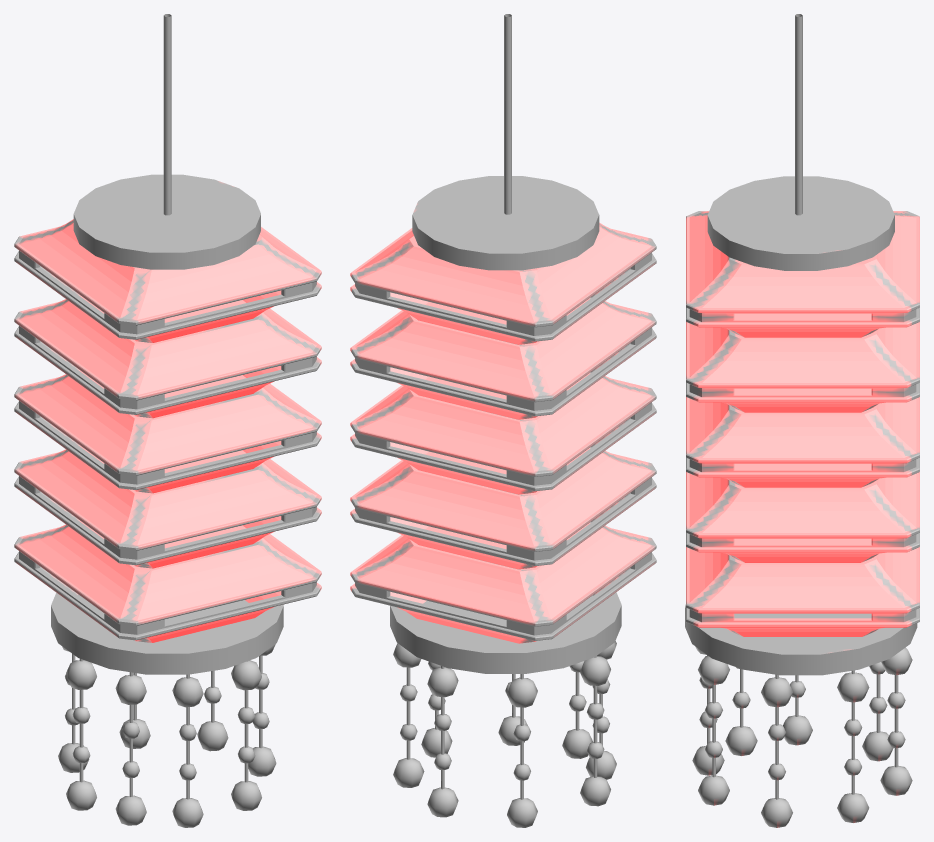
The model's file is SM_LightSet_Baloon.fbx.
The picture shows the model from 3 angles, left to right: view 1: azimuth 30°, elevation 25°; view 2: azimuth 150°, elevation 25°; view 3: azimuth 270°, elevation 25°; orthographic projection.
Parts seen in each view (by area): view 1: SM_LightSet_Baloon_LOD0; view 2: SM_LightSet_Baloon_LOD0; view 3: SM_LightSet_Baloon_LOD0.
Part boxes in pixels (x1,y1,x2,y2): SM_LightSet_Baloon_LOD0: (14,14,321,827); SM_LightSet_Baloon_LOD0: (350,14,656,827); SM_LightSet_Baloon_LOD0: (685,14,919,827).
Bounding box in the file's own units: 45.38 × 45.12 × 164.
